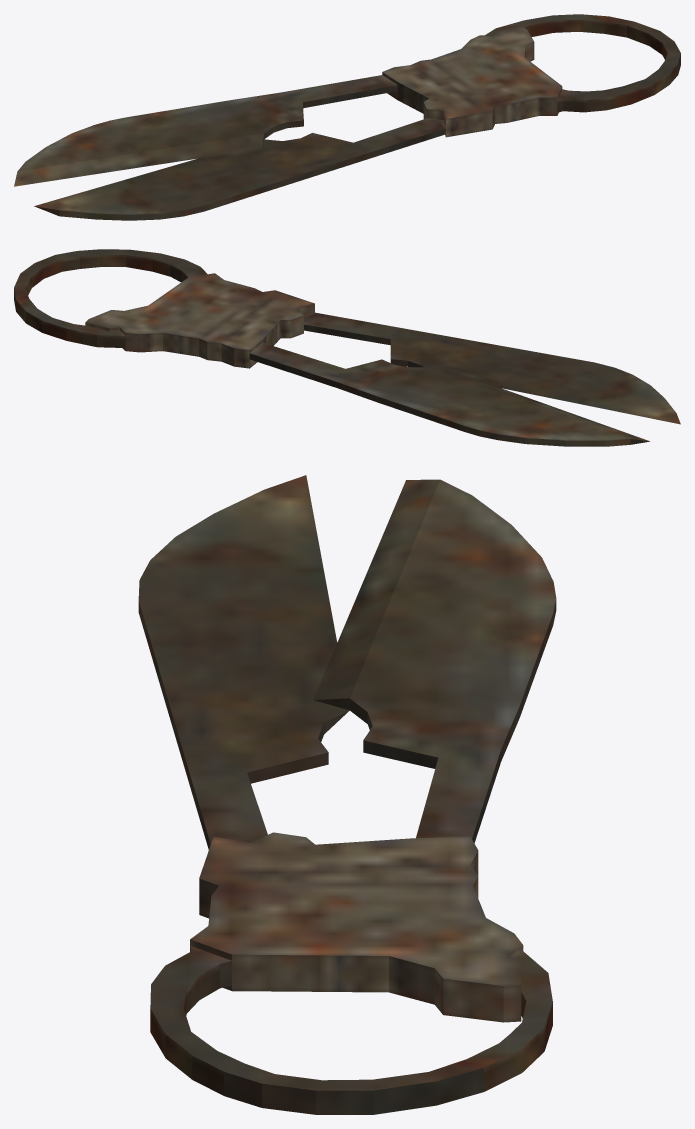
File: misc_tool_mx_2.obj
3 views of the same model, one above another, from view 1: azimuth 30°, elevation 25°; view 2: azimuth 150°, elevation 25°; view 3: azimuth 270°, elevation 25° (orthographic). The views are drawn at different scales.
Visible parts, largest first — view 1: misc_tool_mx_2; view 2: misc_tool_mx_2; view 3: misc_tool_mx_2.
Boxes of the visible parts, x1,y1,x2,y2 form: misc_tool_mx_2: (14, 14, 680, 220); misc_tool_mx_2: (14, 249, 680, 446); misc_tool_mx_2: (138, 475, 556, 1114).
Bounding box in the file's own units: 0.2768 × 0.0075 × 0.0778.
